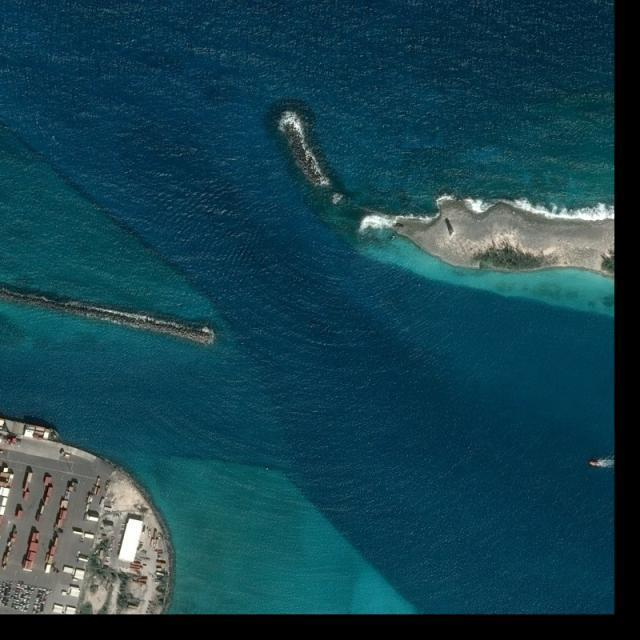ship: (0, 420, 62, 444), (589, 462, 600, 466)
